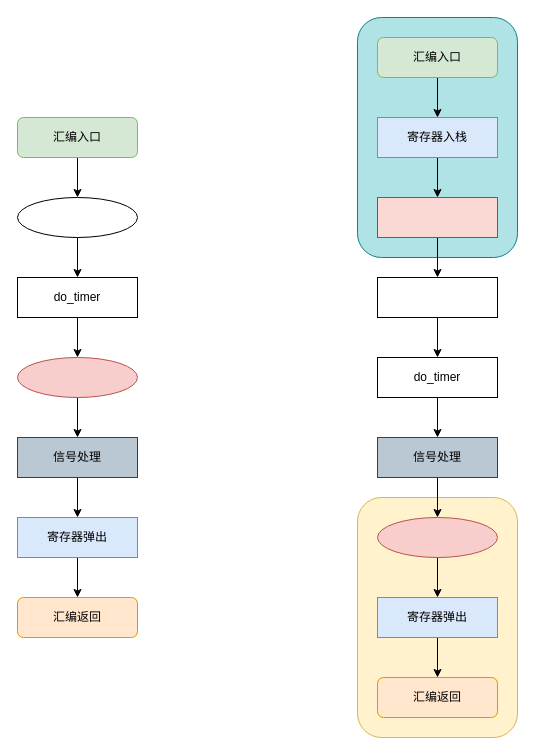
The diagram is 535 pixels wide and 755 high, and some of its shapes have lost their labels. Here are the shapes that lost their labels. From the top down, the box of each, then its label:
(16, 196, 138, 238): timer_interrupt
(376, 196, 498, 238): 设置返回点为 ret_from_exception
(376, 276, 498, 318): do_irq
(16, 356, 138, 398): ret_from_sys_call
(376, 516, 498, 558): ret_from_exception
